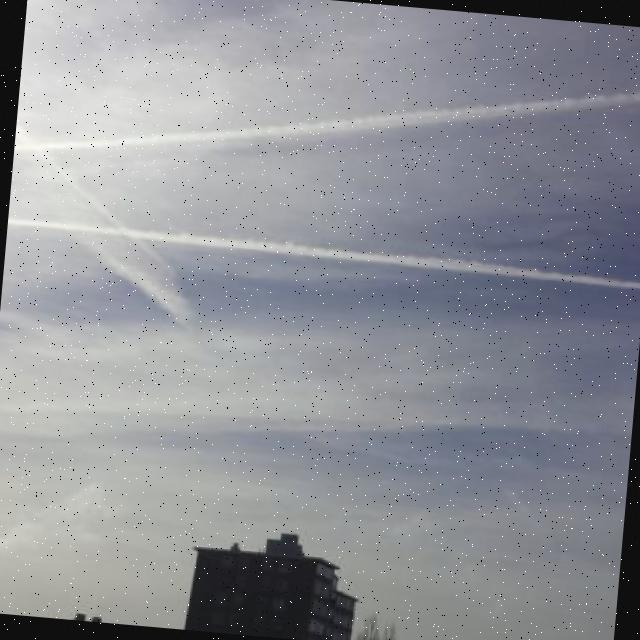Ct: (1, 34, 640, 395)
